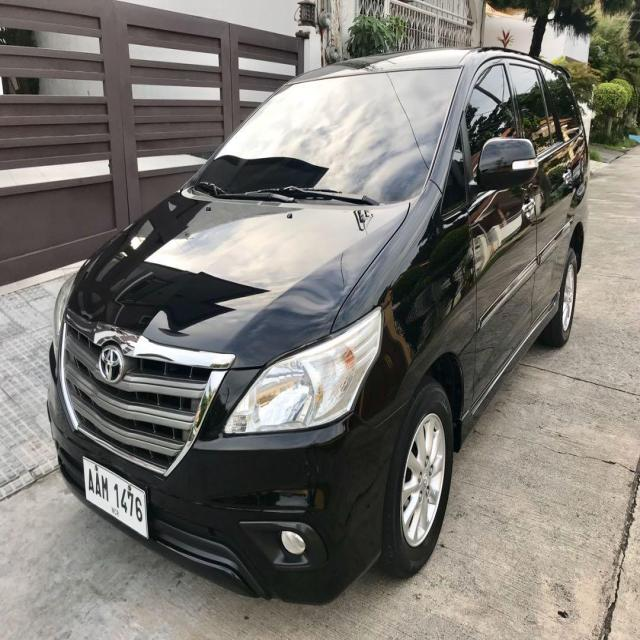light_vehicle: (45, 47, 591, 605)
